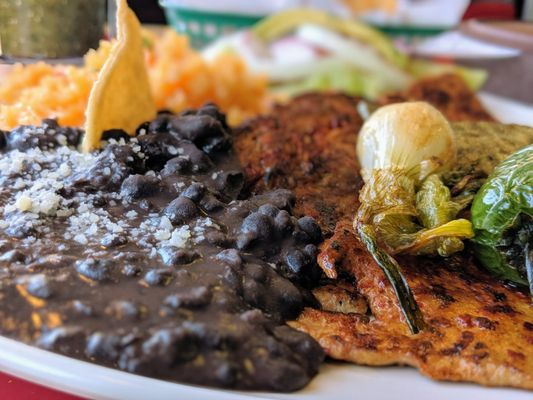sandwich: (1, 23, 530, 394)
